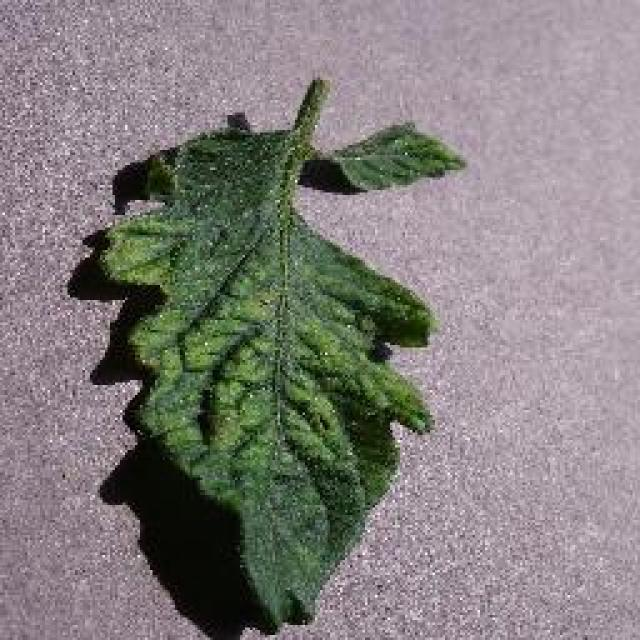Tomato___Tomato_mosaic_virus: (98, 80, 432, 625), (320, 122, 462, 188)
